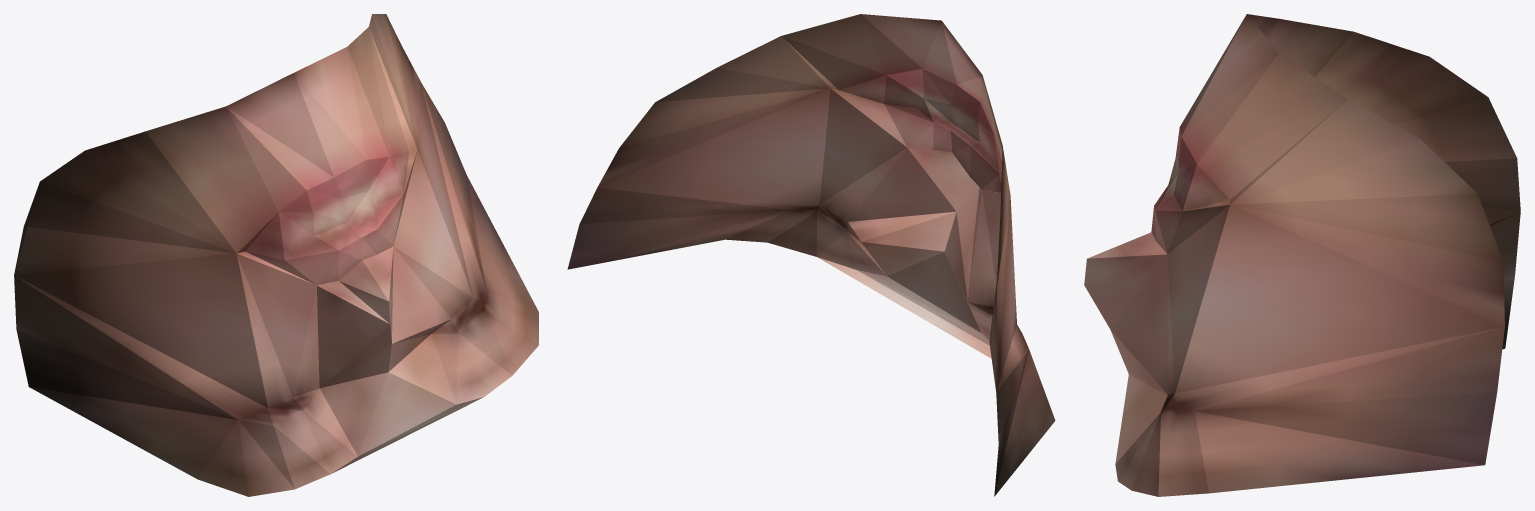
File: real_2375.obj
3 views of the same model, side by side, from view 1: azimuth 30°, elevation 25°; view 2: azimuth 150°, elevation 25°; view 3: azimuth 270°, elevation 25° (orthographic). The views are drawn at different scales.
Size of the model in its own units: 105 by 88 by 74.81.
